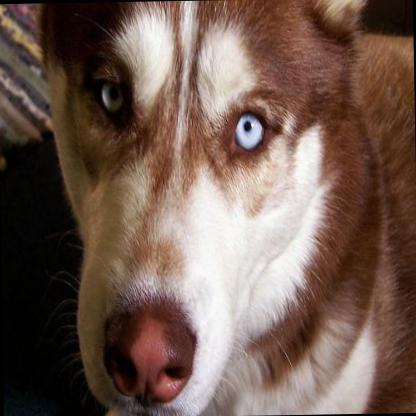Eskimo_dog: (35, 0, 416, 412)
